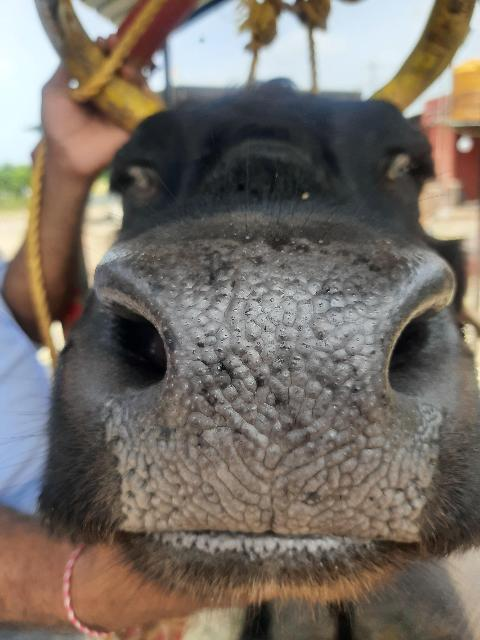Muzzle: (160, 267, 386, 528)
